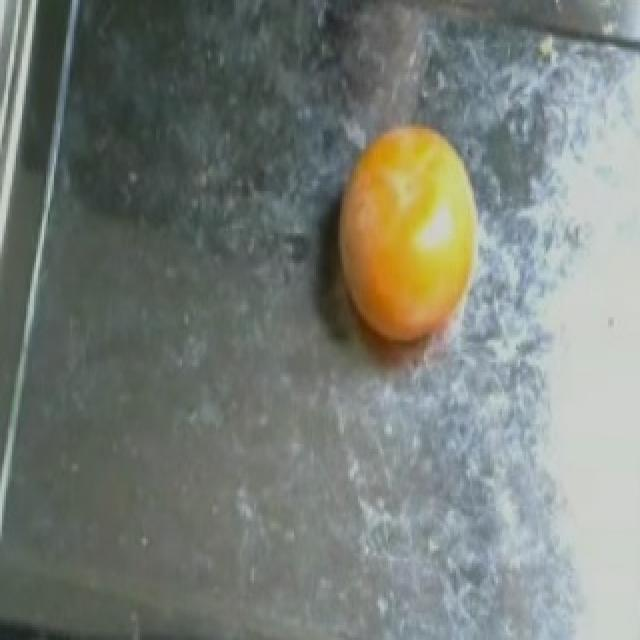Fruit: (310, 102, 504, 399)
